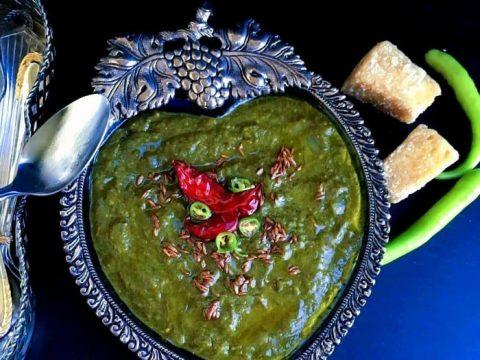saag: (91, 110, 356, 360)
